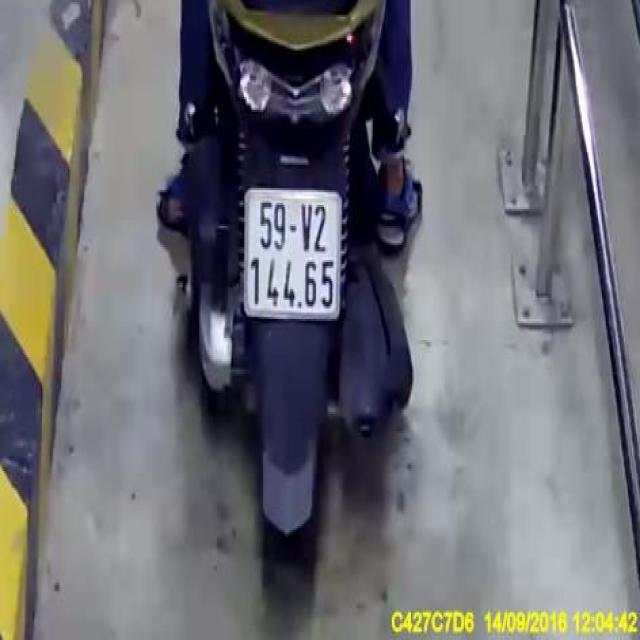1: (250, 258, 264, 306)
2: (314, 204, 329, 254)
4: (266, 257, 284, 310), (282, 254, 296, 308)
5: (319, 258, 336, 310), (258, 198, 273, 253)
6: (304, 262, 318, 311)
9: (272, 196, 288, 252)
V: (298, 205, 314, 254)
